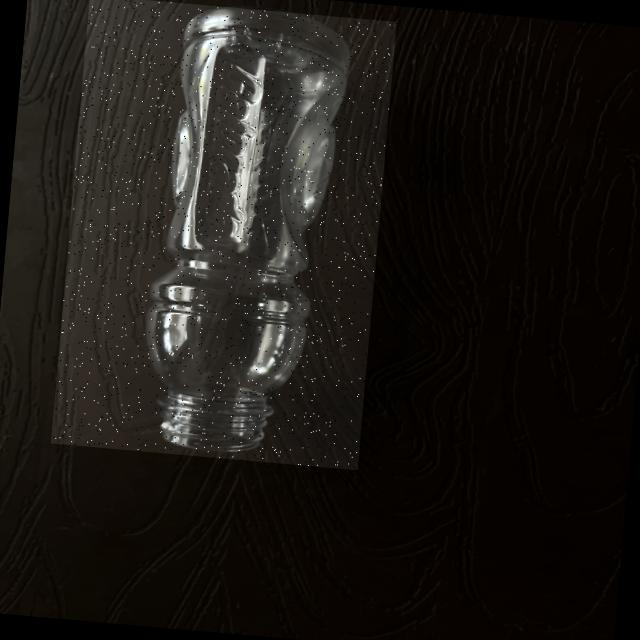PET_ClearBottle: (50, 0, 396, 469)
